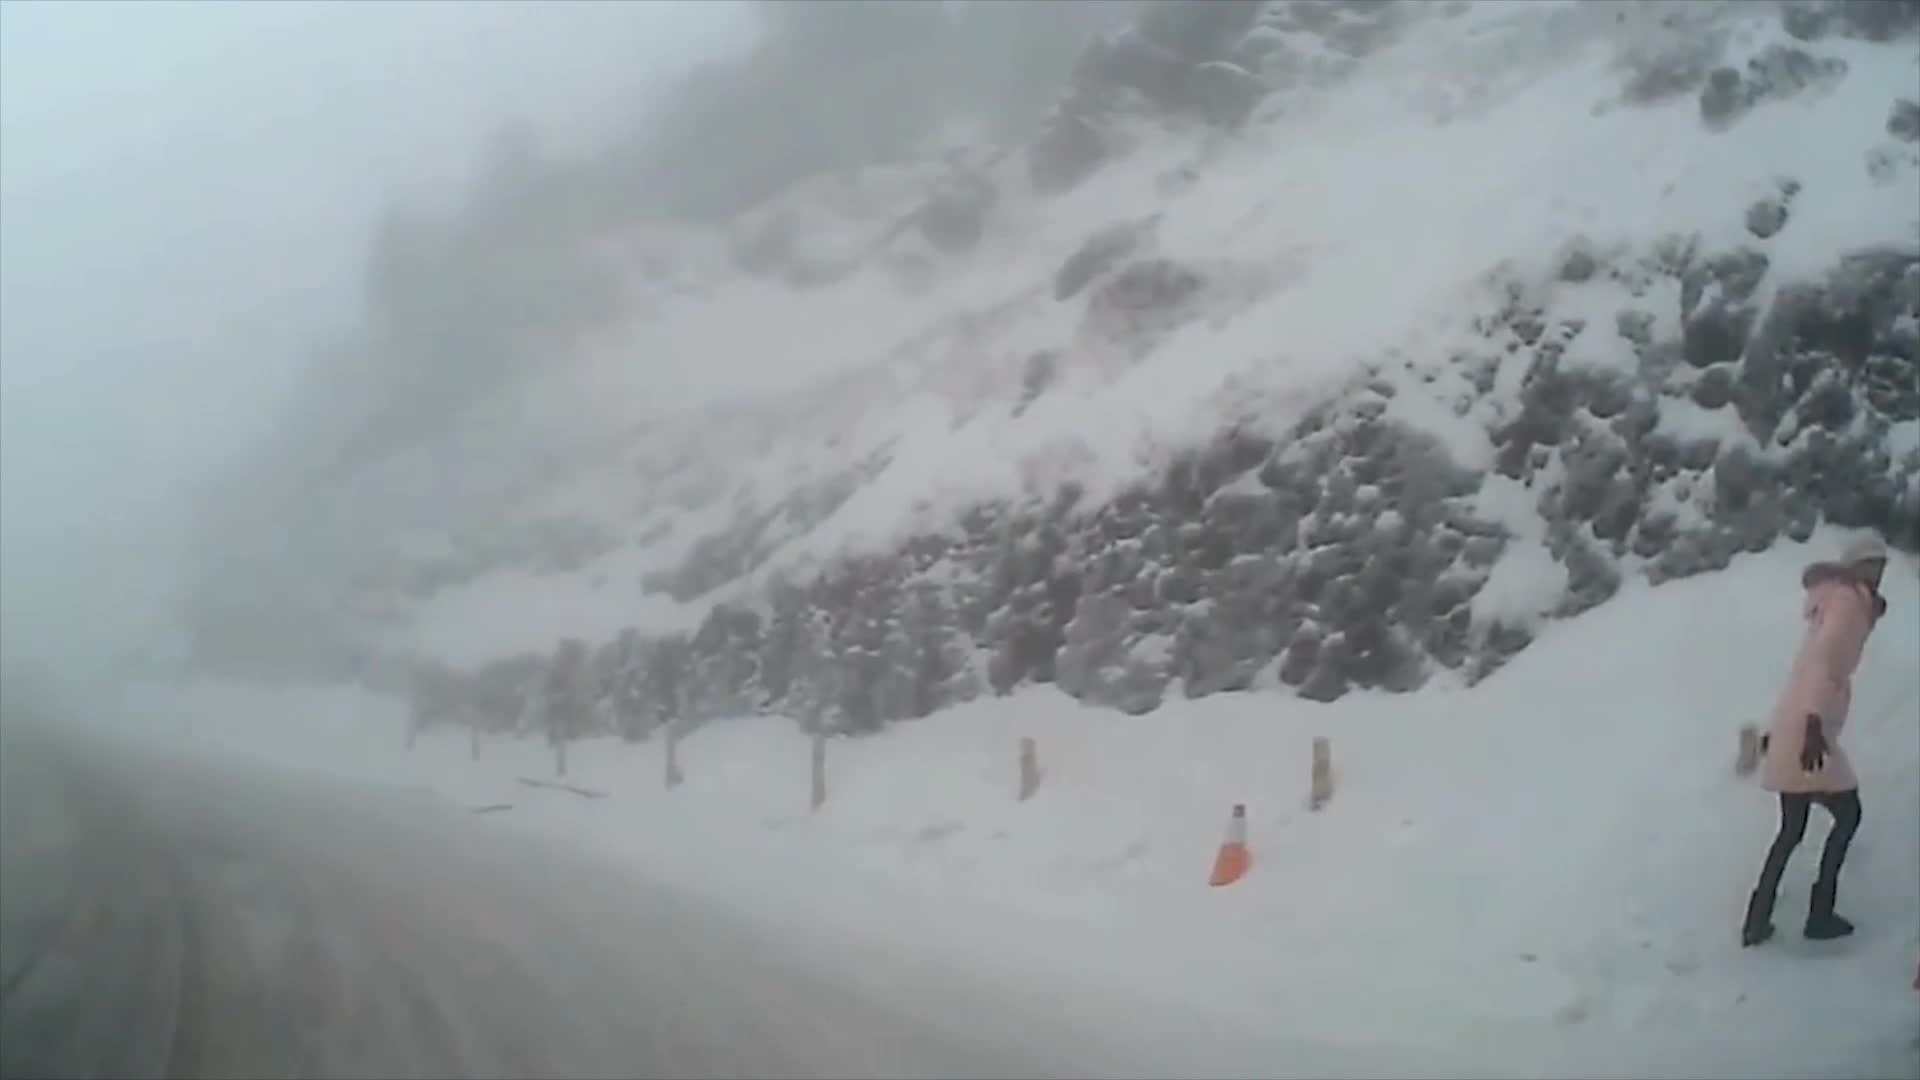pedestrian: (1742, 526, 1892, 945)
